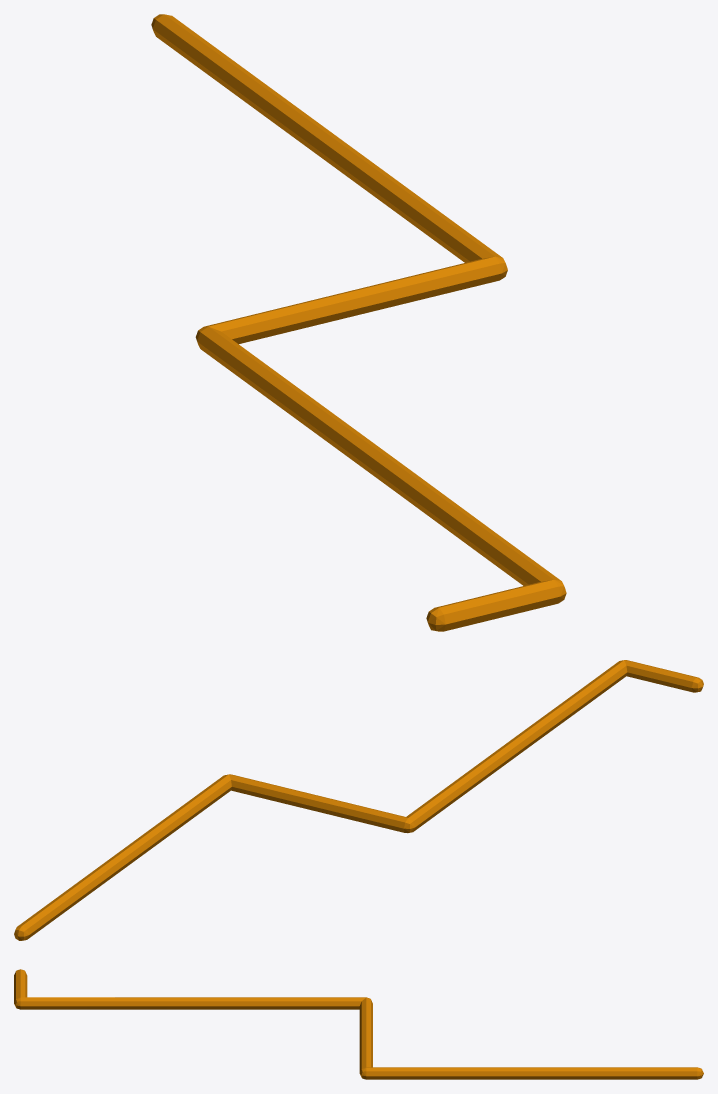
3 views of the same model, one above another, from view 1: azimuth 30°, elevation 25°; view 2: azimuth 150°, elevation 25°; view 3: azimuth 270°, elevation 25° (orthographic). The views are drawn at different scales.
Bounding box in the file's own units: 370 × 20 × 1042.
